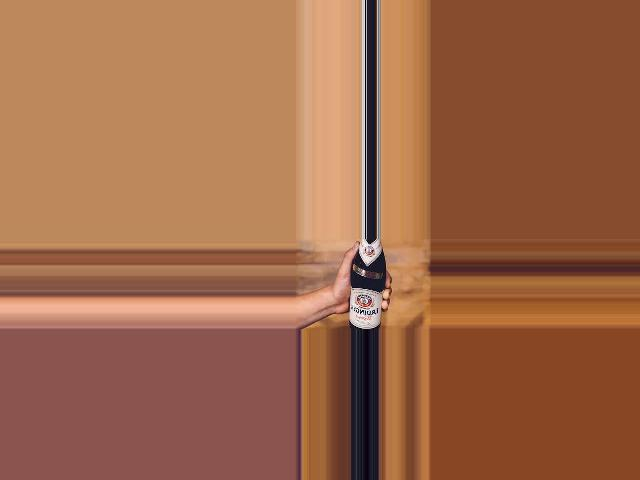beer: (348, 239, 385, 330)
